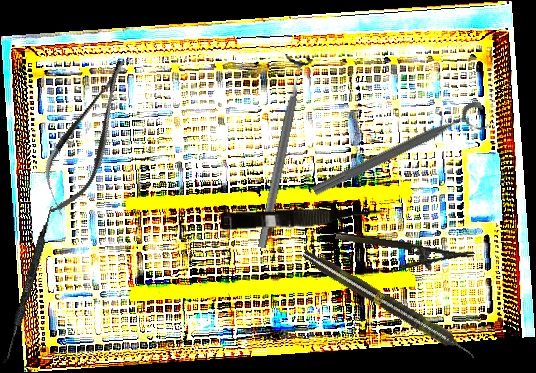Fixation Ring: (309, 99, 493, 210), (246, 53, 315, 251)
Handpiece: (299, 246, 480, 364)
Micro Scissor: (27, 50, 148, 223), (220, 203, 387, 234)
Needle Holder: (332, 230, 475, 280)
Spatula Surgical: (2, 204, 55, 366)
